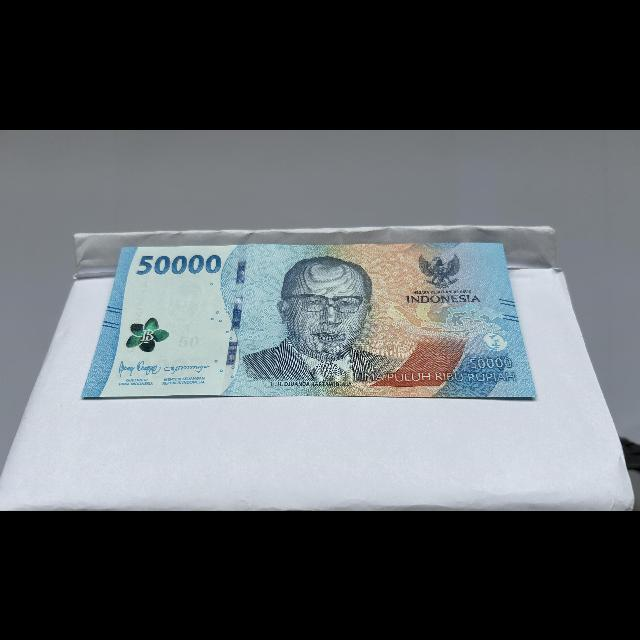Asli-50k: (77, 239, 540, 401)
Tinta-Asli-50k: (123, 309, 173, 357)
